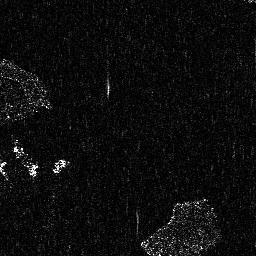ship: (13, 145, 38, 176)
